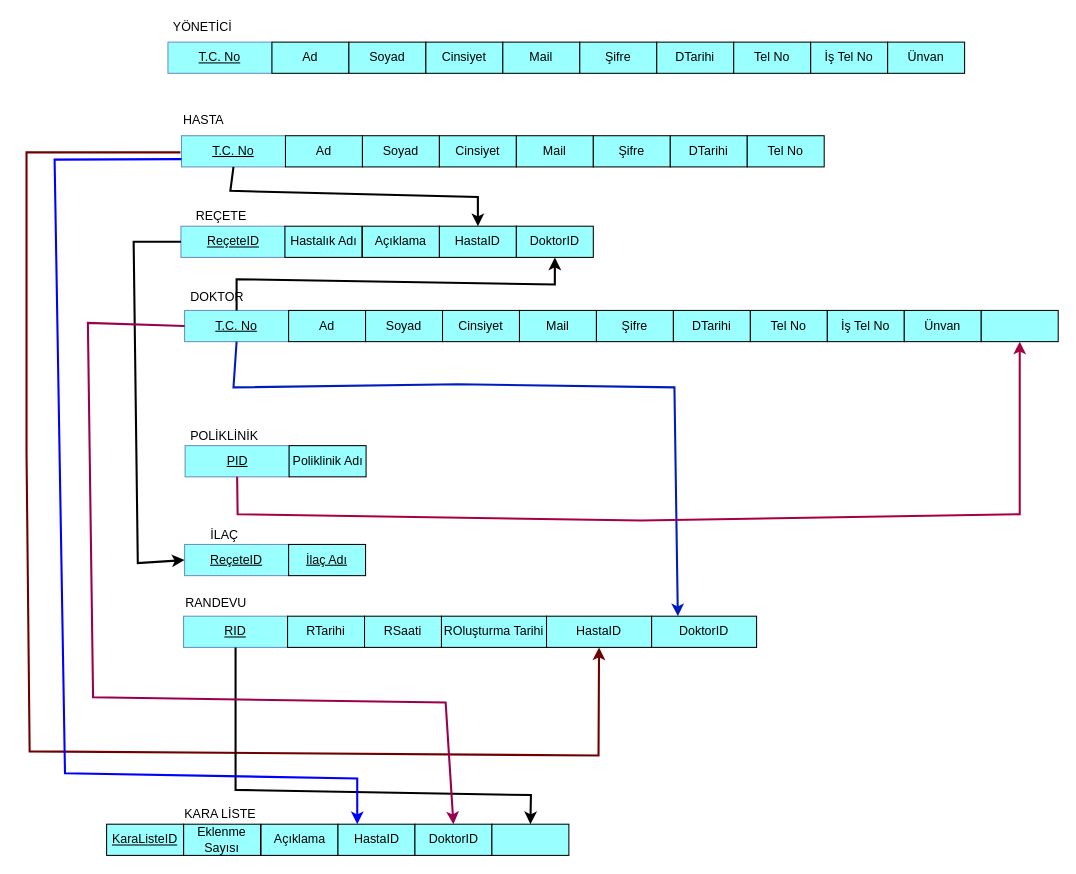
Image size: 1076x874. Some labels were removed from this diagram. Here are the shapes that lost their labels. From the top down, the centre of each, then its label:
the point at 1019,325: PoliklinikID
the point at 530,839: RandevuID
